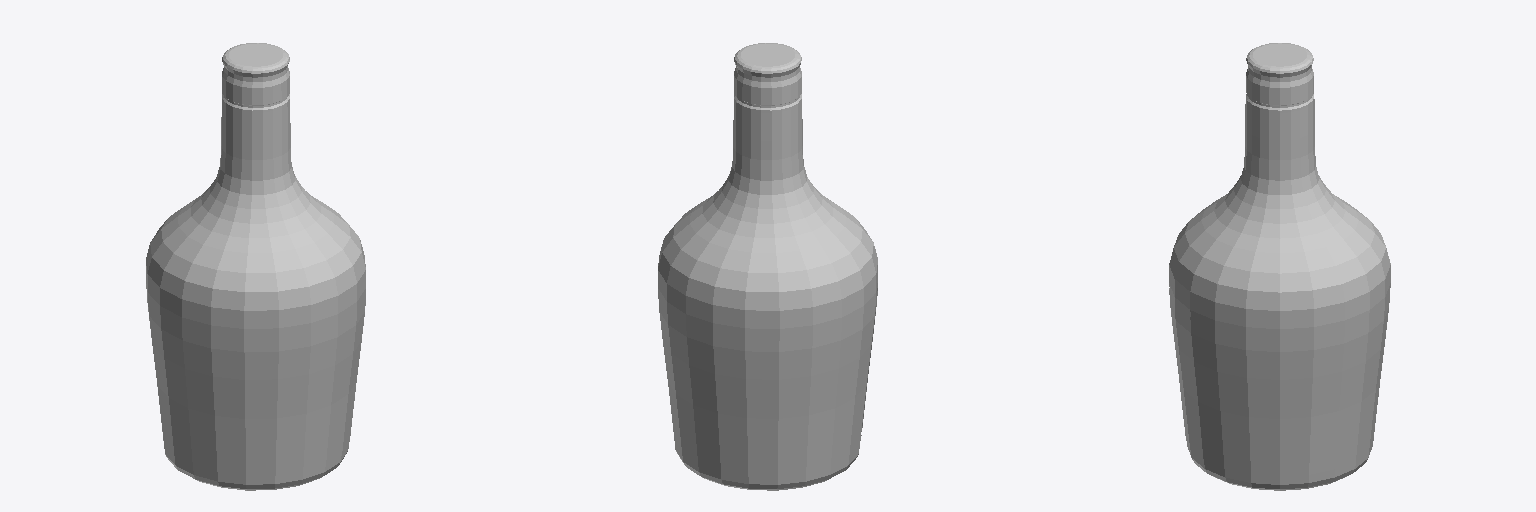
Rendered from whiskyBottle.obj.
The picture shows the model from 3 angles: view 1: azimuth 30°, elevation 25°; view 2: azimuth 150°, elevation 25°; view 3: azimuth 270°, elevation 25°; orthographic projection.
Parts seen in each view (by area): view 1: Baileys; view 2: Baileys; view 3: Baileys.
Boxes of the visible parts, box(x1,y1,x2,y2) form: Baileys: box(146, 43, 365, 490); Baileys: box(658, 43, 877, 490); Baileys: box(1169, 43, 1390, 490).
Size of the model in its own units: 1 by 2 by 1.